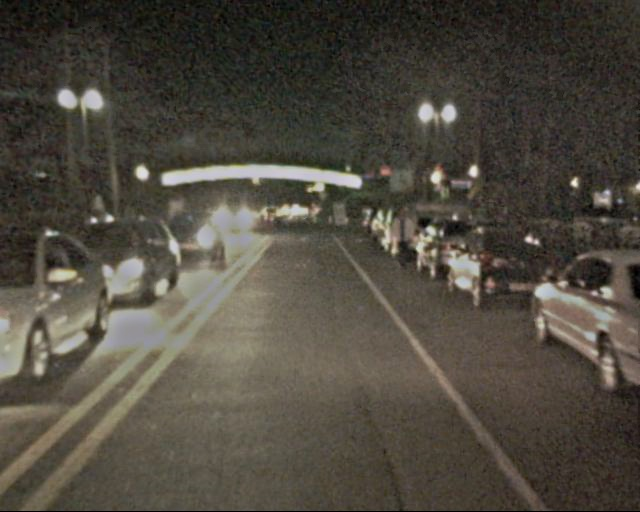person: (386, 210, 414, 278)
